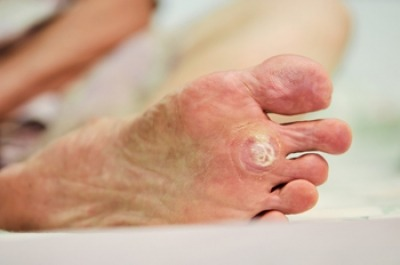Warts: (233, 125, 282, 177)
